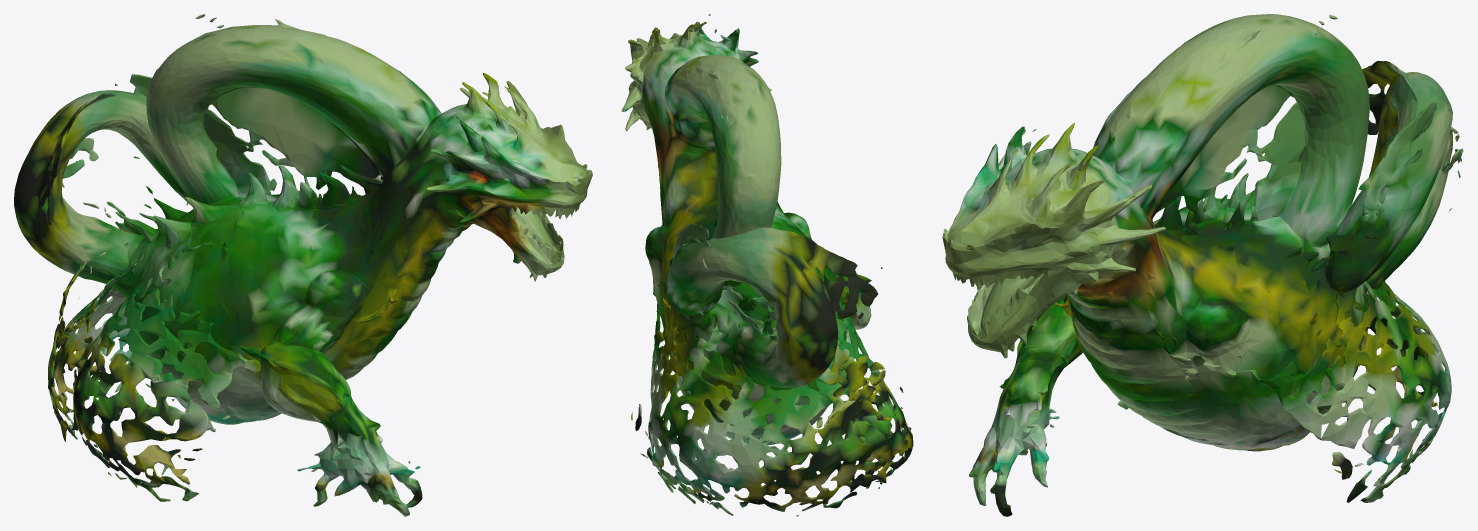
File: poisonMushroom.glb
3 renders of one model, left to right at view 1: azimuth 30°, elevation 25°; view 2: azimuth 150°, elevation 25°; view 3: azimuth 270°, elevation 25°, orthographic. The views are drawn at different scales.
Parts seen in each view (by area): view 1: world; view 2: world; view 3: world.
Part boxes in pixels (x1,y1,x2,y2): world: [14, 14, 592, 516]; world: [621, 14, 913, 516]; world: [942, 14, 1463, 516].
Bounding box in the file's own units: 0.9958 × 1 × 0.9981.
